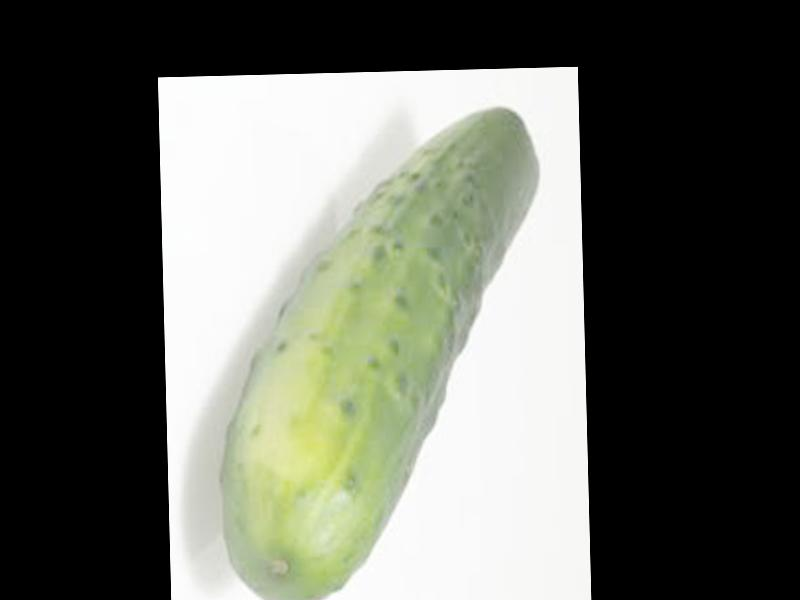Cucumber: (214, 105, 550, 600)
